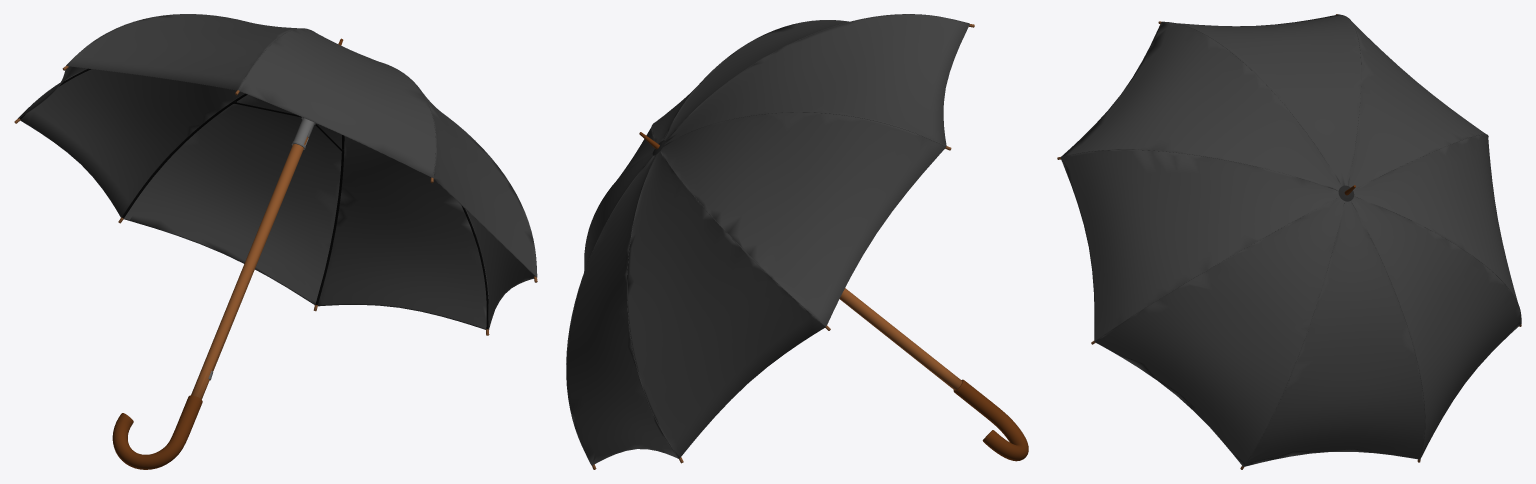
Rendered from umbrella.glb.
3 renders of one model, left to right at view 1: azimuth 30°, elevation 25°; view 2: azimuth 150°, elevation 25°; view 3: azimuth 270°, elevation 25°, orthographic. The views are drawn at different scales.
Visible parts, largest first — view 1: Sphere.004, Cylinder, Cylinder.001, Sphere.002; view 2: Sphere.004, Cylinder.001, Cylinder; view 3: Sphere.004.
Part boxes in pixels (box(x1,y1,x2,y2)): Sphere.004: box(18, 14, 537, 329); Cylinder: box(191, 136, 307, 399); Cylinder.001: box(112, 395, 202, 469); Sphere.002: box(19, 68, 488, 329); Sphere.004: box(566, 14, 969, 465); Cylinder.001: box(953, 379, 1028, 461); Cylinder: box(839, 288, 962, 390); Sphere.004: box(1060, 14, 1521, 466).
Bounding box in the file's own units: 2.94 × 2.81 × 3.33.
